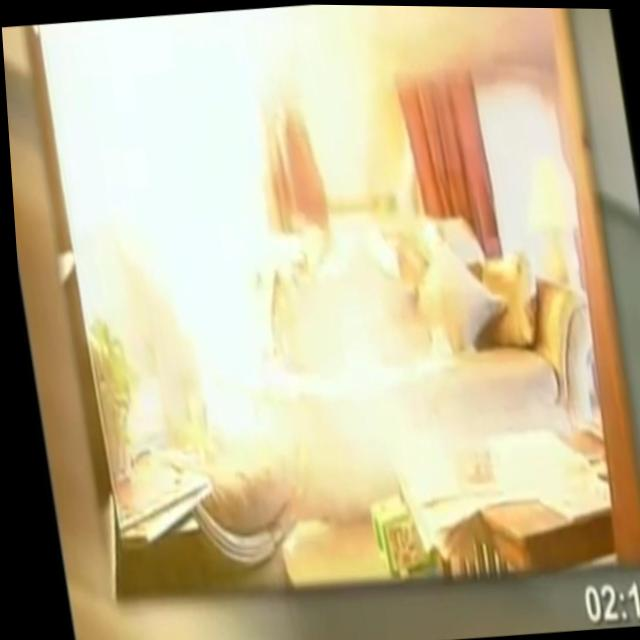fire: (39, 7, 302, 488)
